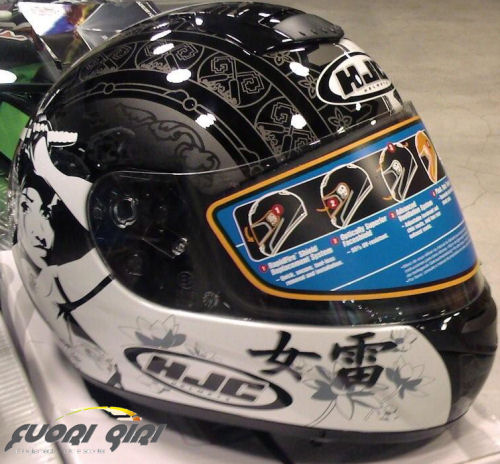helmet: (19, 26, 469, 418)
